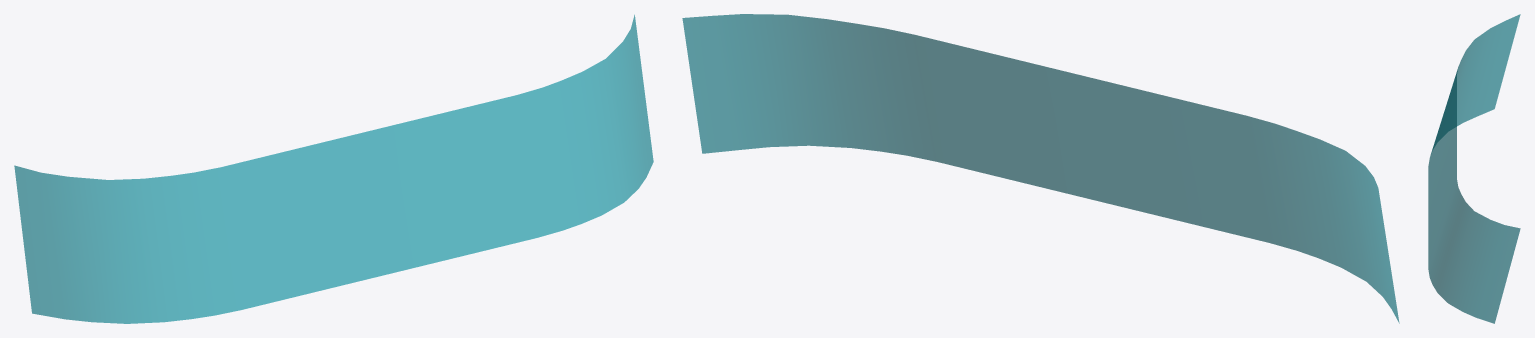
Rendered from Mh_Wall_01_Glass.fbx.
The picture shows the model from 3 angles, left to right: view 1: azimuth 30°, elevation 25°; view 2: azimuth 150°, elevation 25°; view 3: azimuth 270°, elevation 25°; orthographic projection. The views are drawn at different scales.
Parts seen in each view (by area): view 1: Mh_Wall_01_Glass; view 2: Mh_Wall_01_Glass; view 3: Mh_Wall_01_Glass.
Boxes of the visible parts, x1=… form: Mh_Wall_01_Glass: x1=14, y1=15, x2=653, y2=323; Mh_Wall_01_Glass: x1=682, y1=14, x2=1399, y2=323; Mh_Wall_01_Glass: x1=1428, y1=14, x2=1520, y2=323.
Size of the model in its own units: 2026 by 425 by 368.
